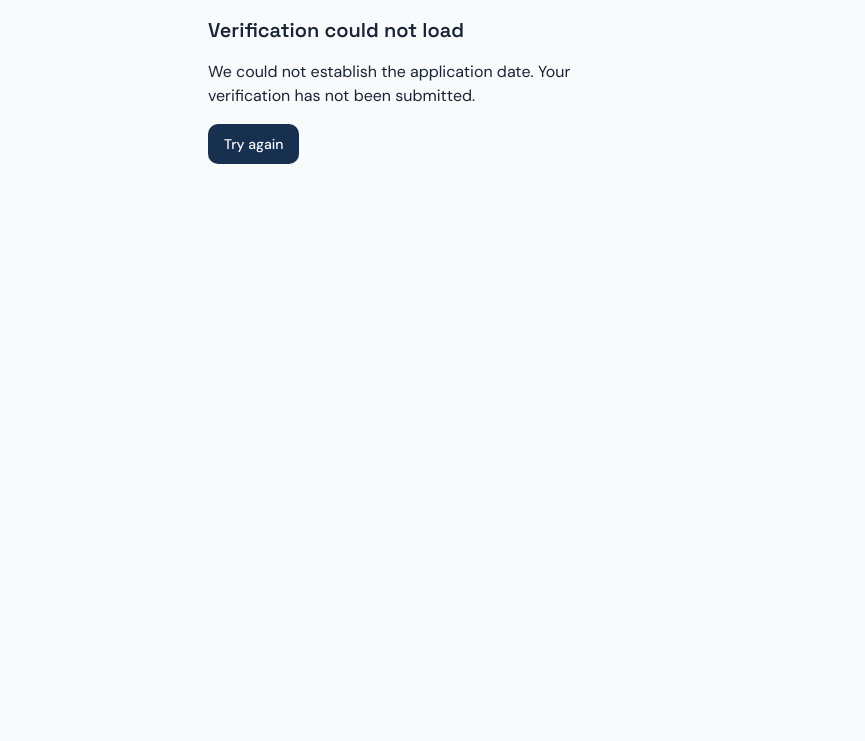
Scenario: KYC recovery and replacement › offers a real retry after the application date lookup fails
Expected: the heading "Verification could not load" is shown, 208,17 -> 464,43
What coordinates should you click on to do the following:
click the button "Try again"
I would click on:
 (254, 144)
Its box is 208,124 -> 300,164.
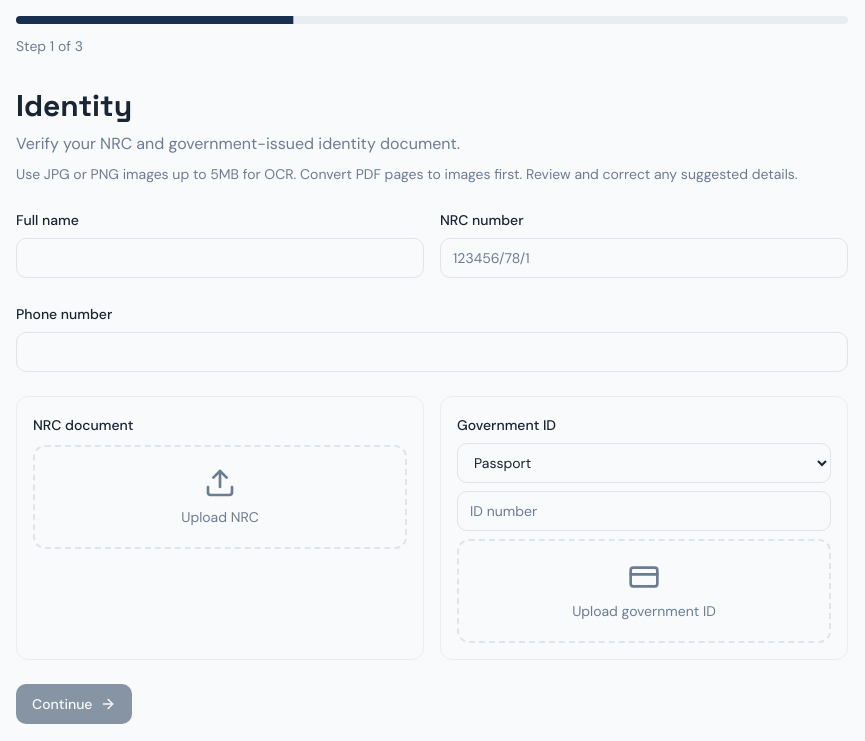
Now the heading "Identity" is shown, box 16,86 -> 132,125
